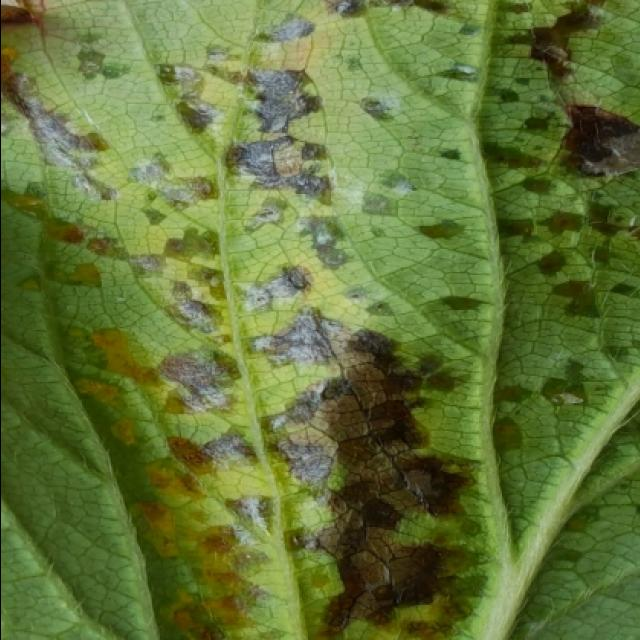Angular Leafspot: (2, 2, 640, 640)
